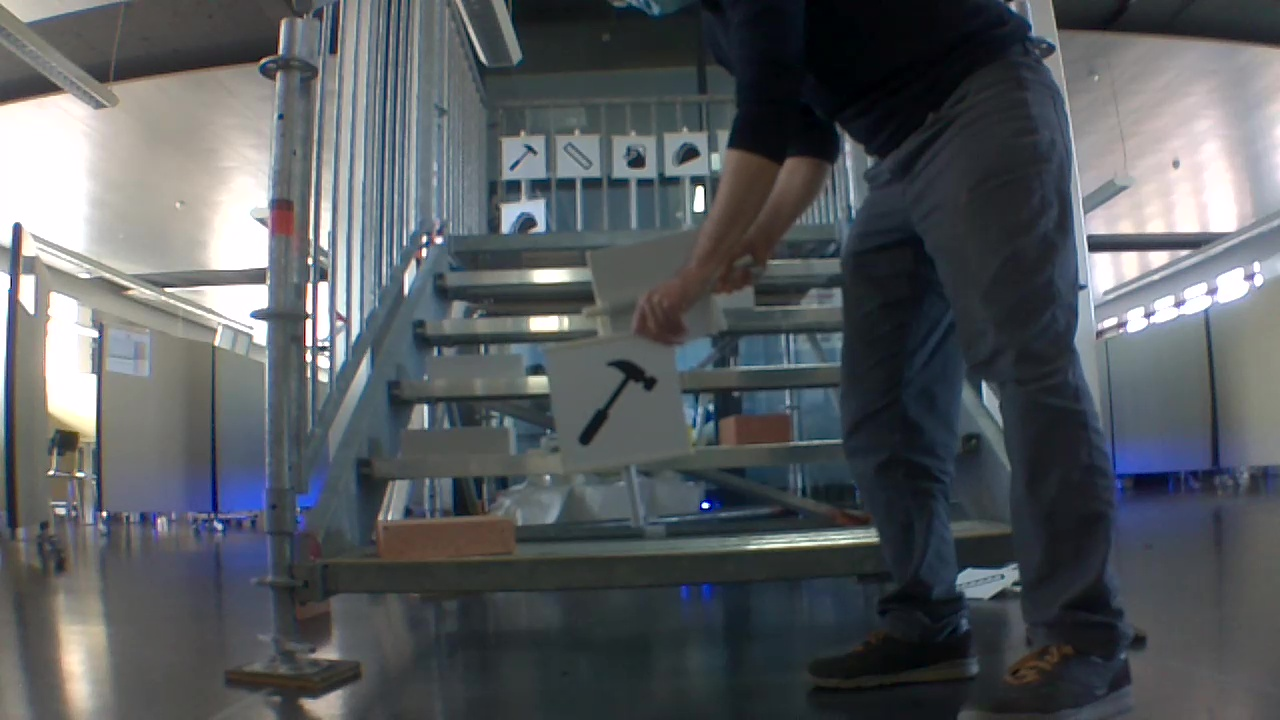brick: (377, 513, 516, 561), (397, 422, 519, 459), (427, 351, 524, 380), (721, 411, 791, 448)
bucket: (622, 141, 646, 171)
hammer: (575, 349, 662, 453), (509, 141, 540, 173)
ruler: (560, 138, 599, 173)
taco: (666, 136, 704, 165), (508, 208, 540, 237)
